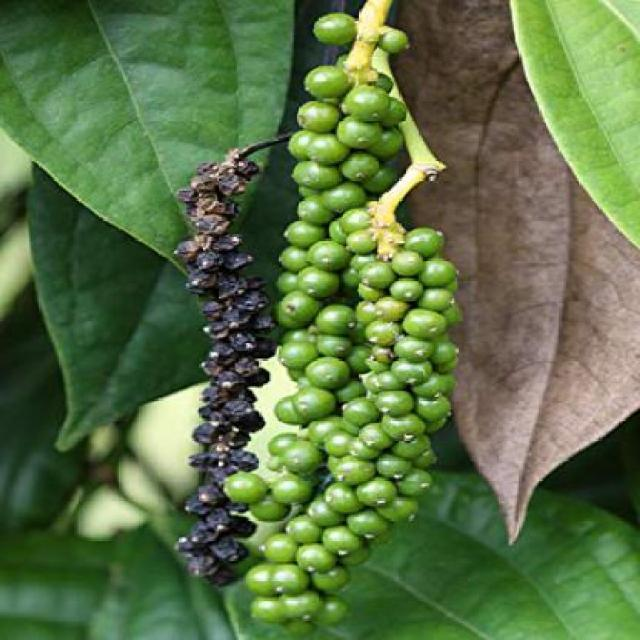UNRIPE: (255, 32, 442, 619)
